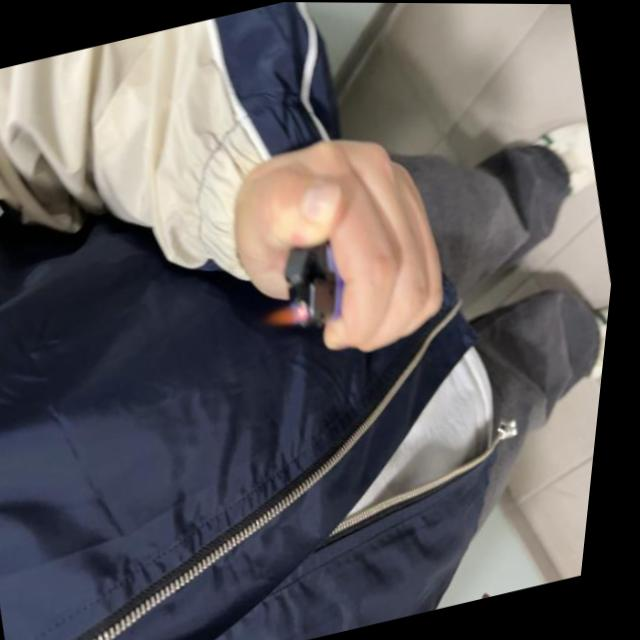Fire: (268, 298, 318, 332)
